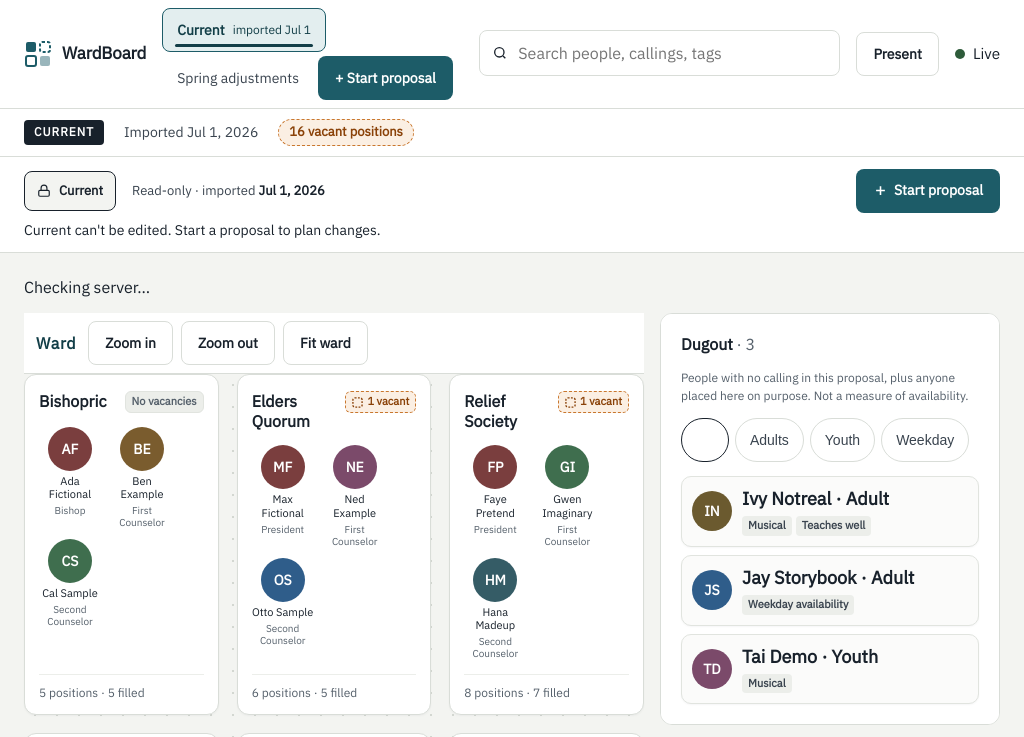
Test: T-082 proposal summary in app › opens with the proposal's net changes and Exit returns
The width and height of the screenshot is (1024, 737).
Note: Switch to Proposal
Click the tab "Spring adjustments" at (238, 78), box [162,56,314,100]
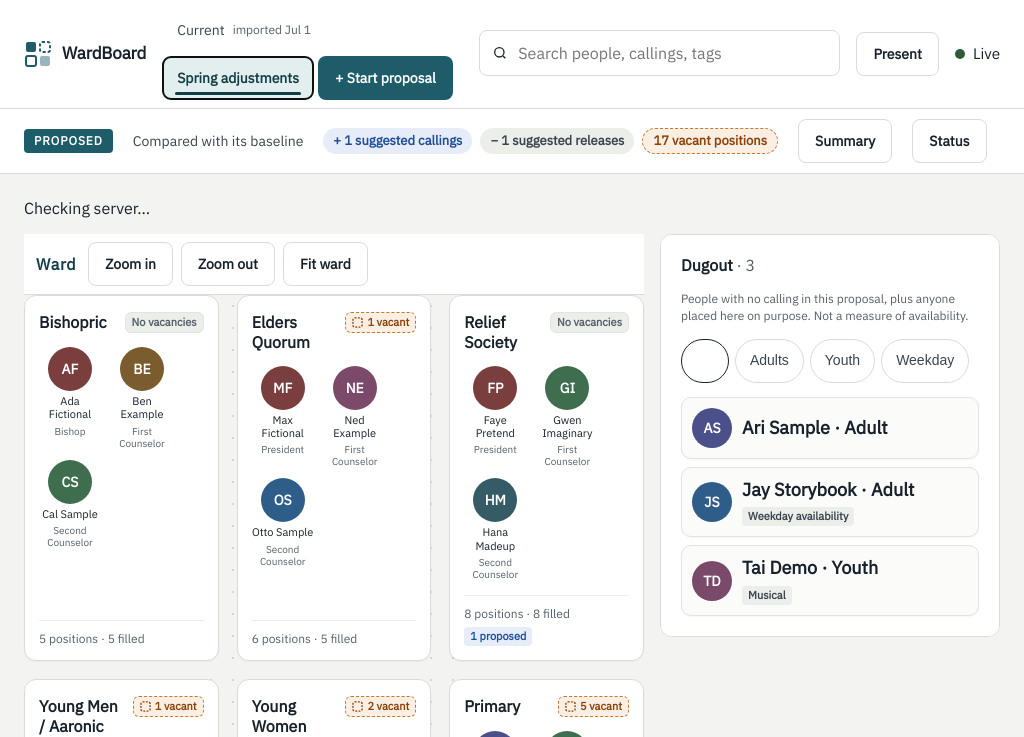
Note: Click Summary
Click the button "Summary" at (845, 141), box [798,119,892,163]
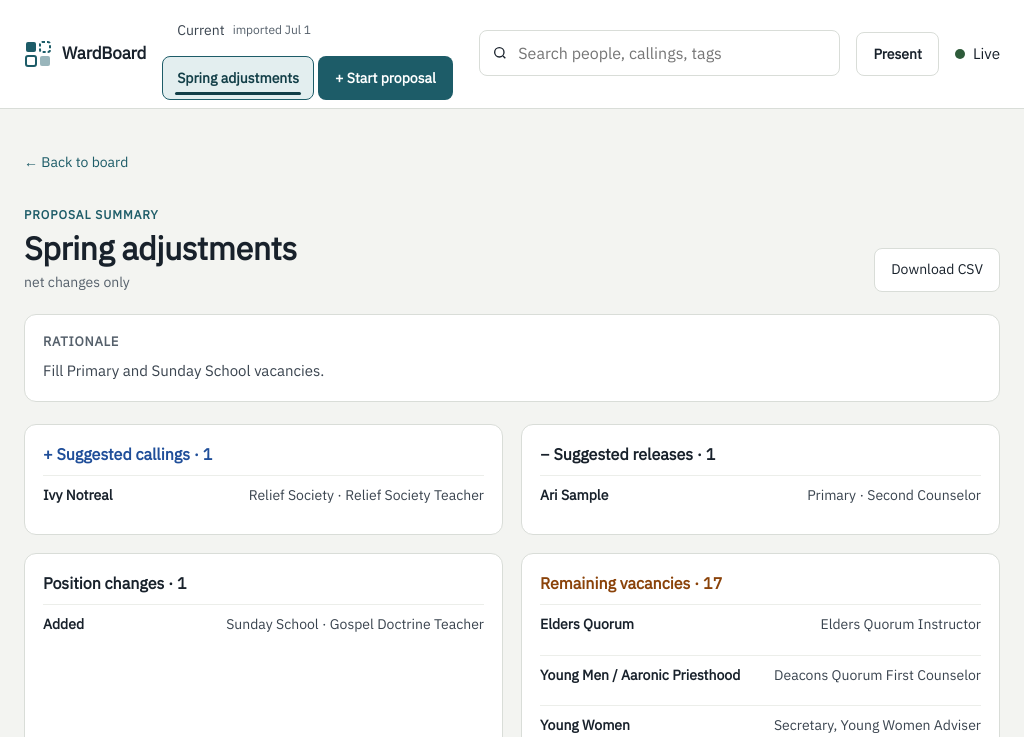
Check: the heading "Spring adjustments" is shown, box [24,230,297,267]
Check: the text "Ivy Notreal" is shown, box [43,486,112,506]
Check: the text "Relief Society · Relief Society Teacher" is shown, box [249,486,484,504]
Note: Click Exit (Back to board)
Click the button "← Back to board" at (82, 163), box [24,141,140,185]
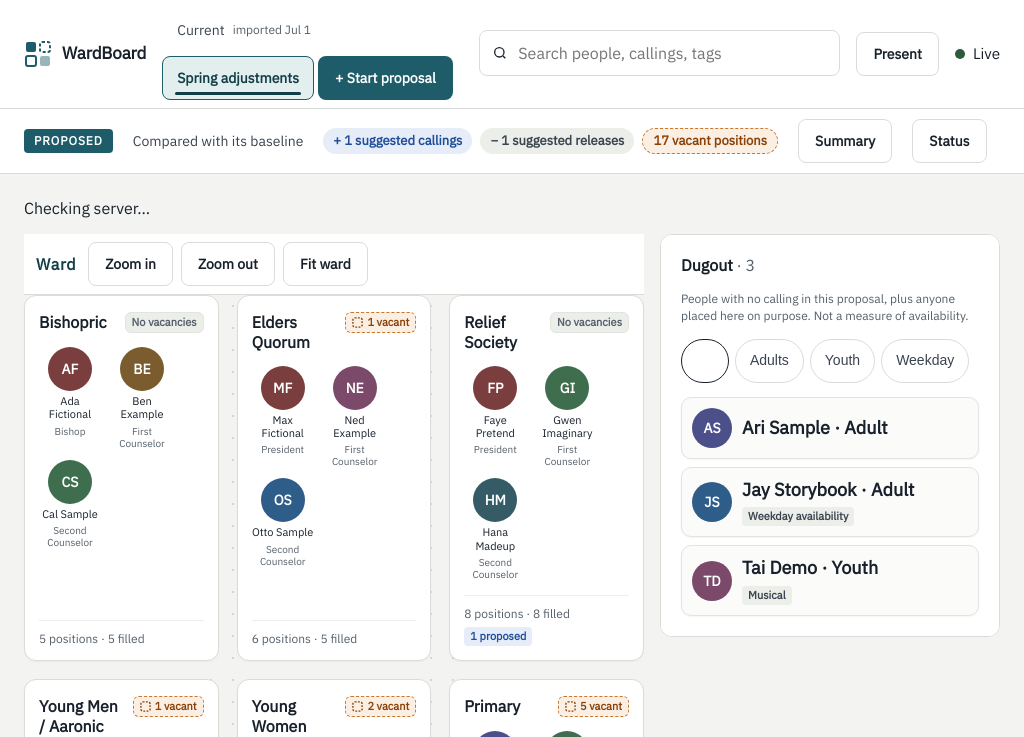
Check: the text "Ward" is shown, box [36,254,76,274]
